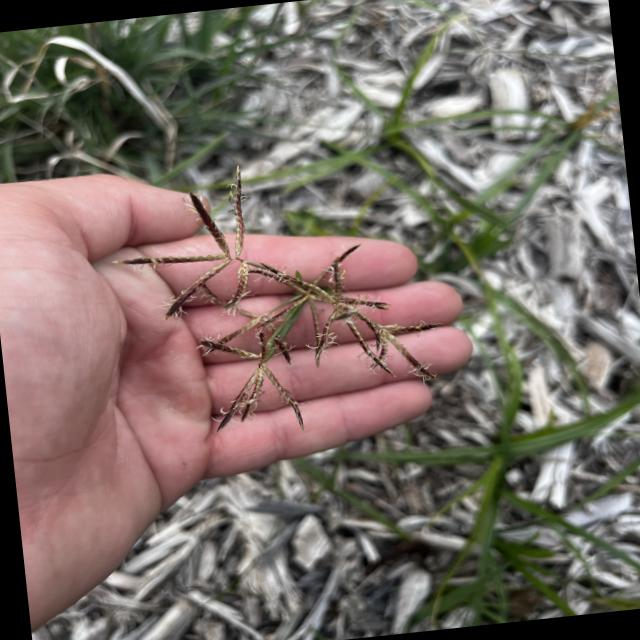cyperus: (104, 148, 448, 443)
